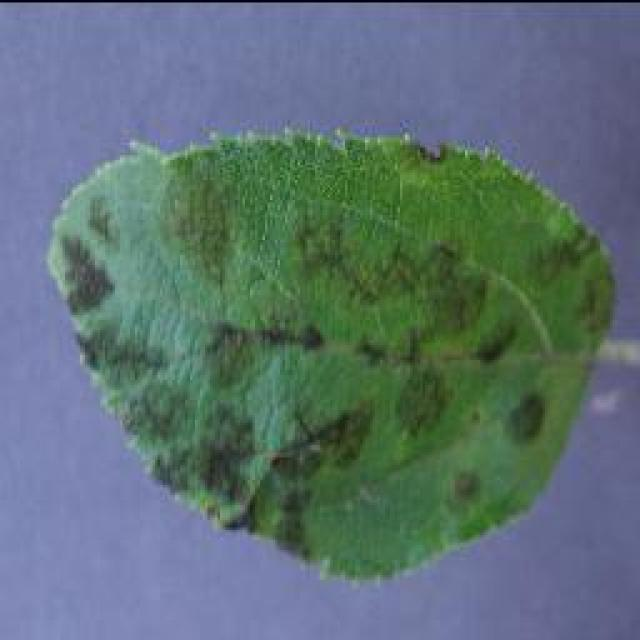apple scab disease: (42, 123, 618, 585)
